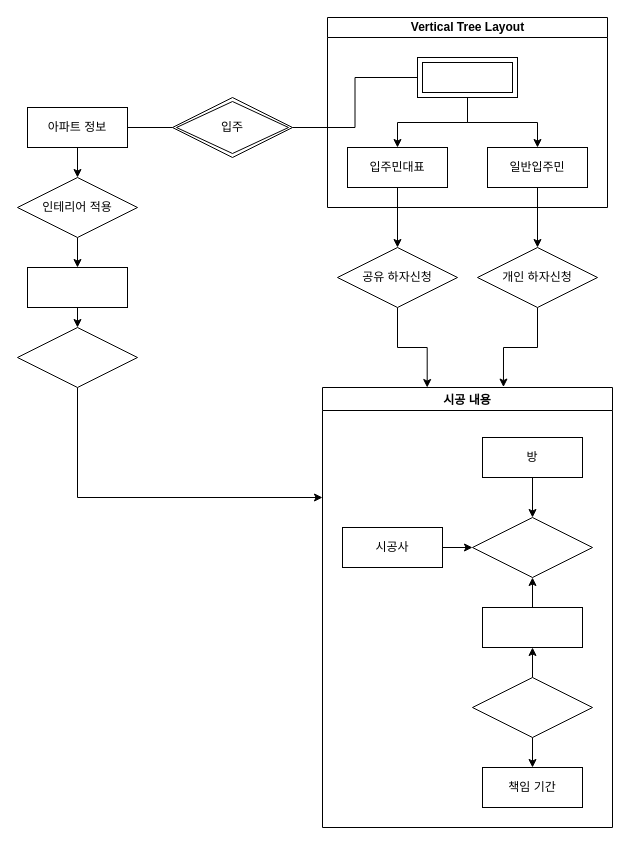
Image size: 630x845. Some labels were removed from this diagram. The centre of each missing label's shape, as x and y in pixels:
분야별 시공: pixel 532 547
시설 공사: pixel 532 627
시설 공사별 책임기간: pixel 532 707
인테리어: pixel 77 287
인테리어별 시공: pixel 77 357
입주민: pixel 467 77
